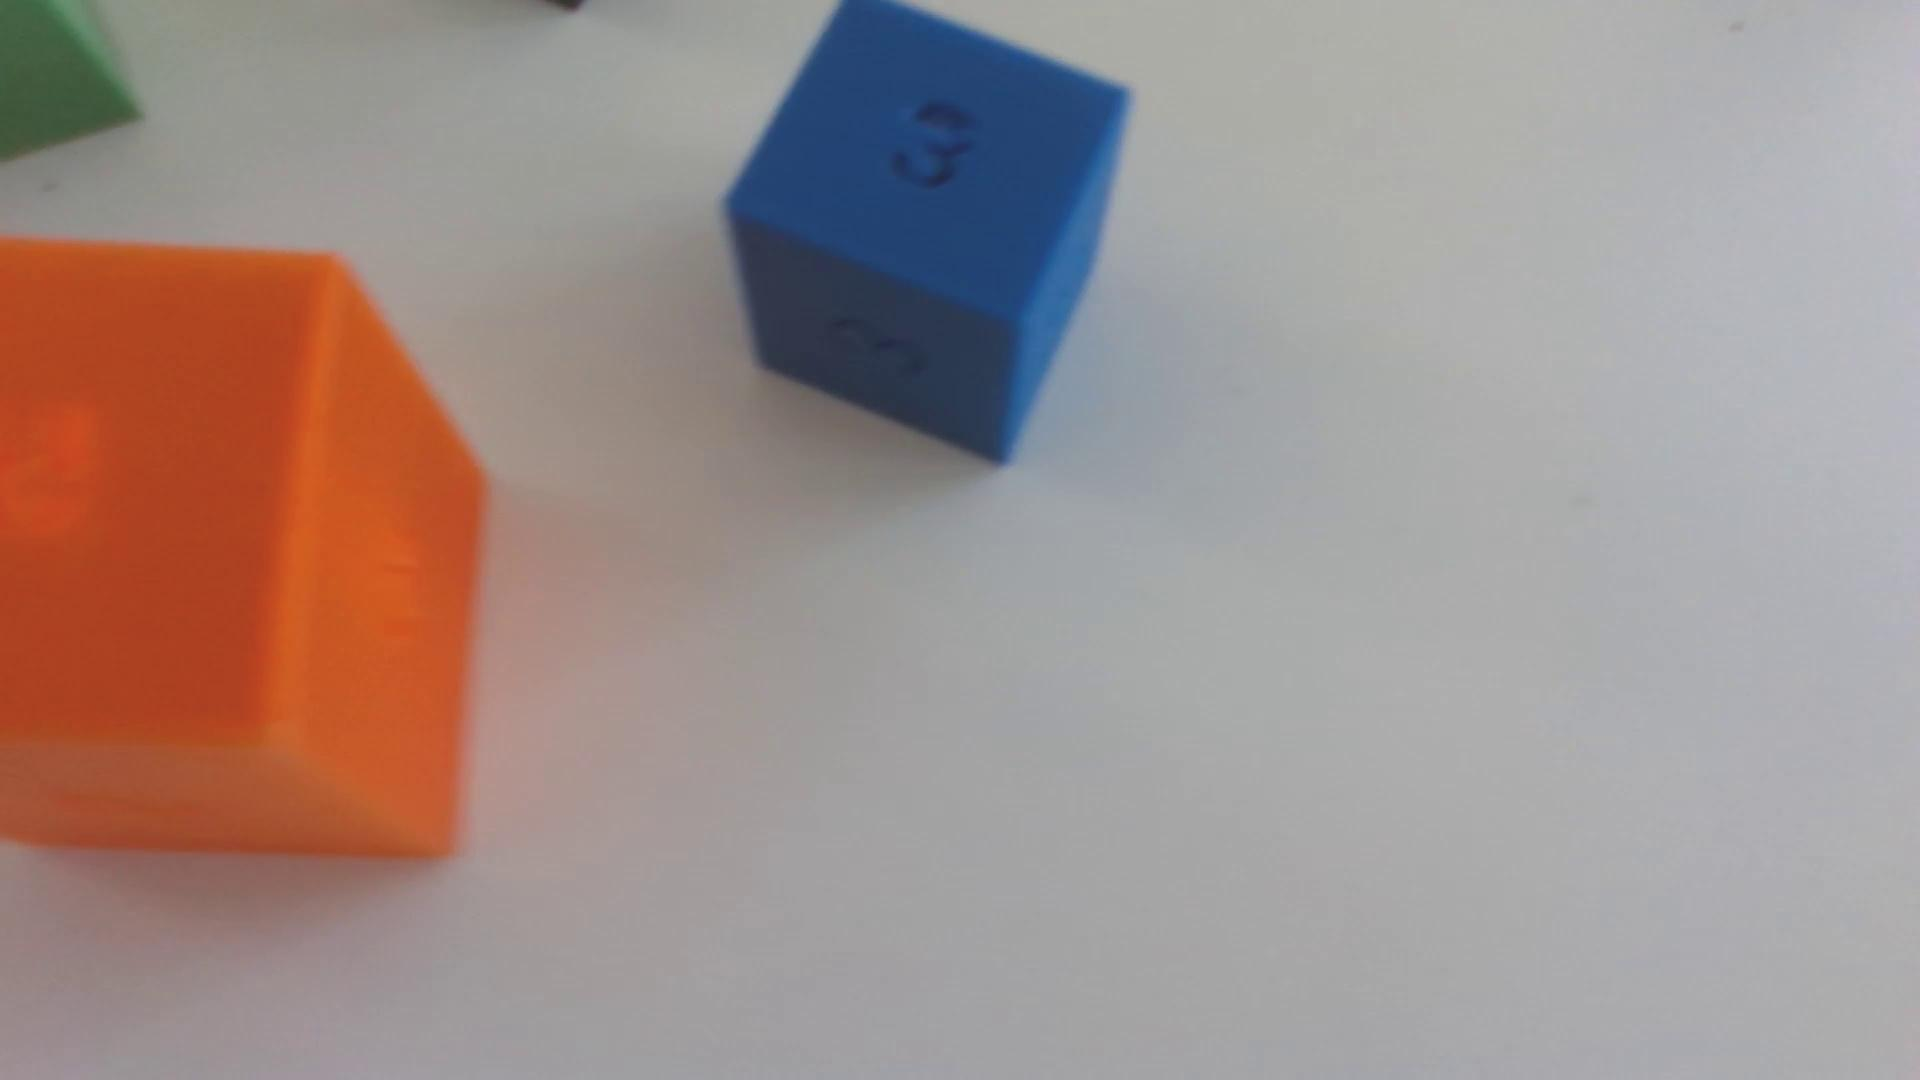black: (549, 0, 585, 11)
blue: (725, 0, 1130, 463)
green: (0, 0, 140, 162)
orange: (0, 237, 487, 860)
